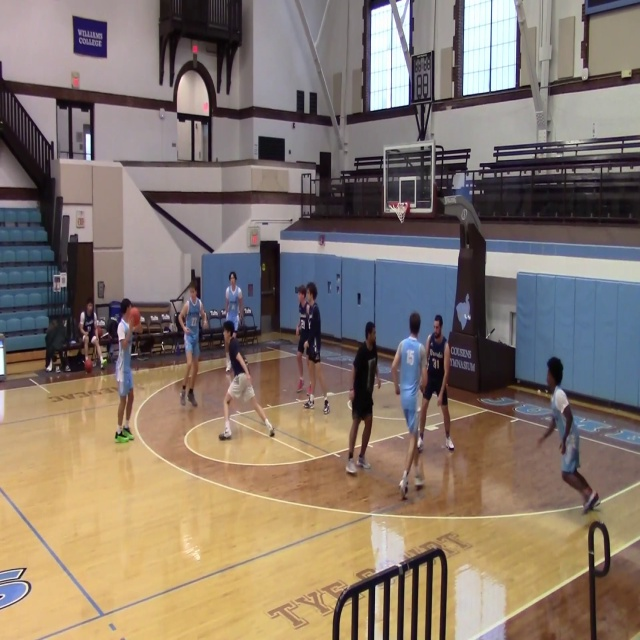Basketball: (126, 306, 140, 329)
